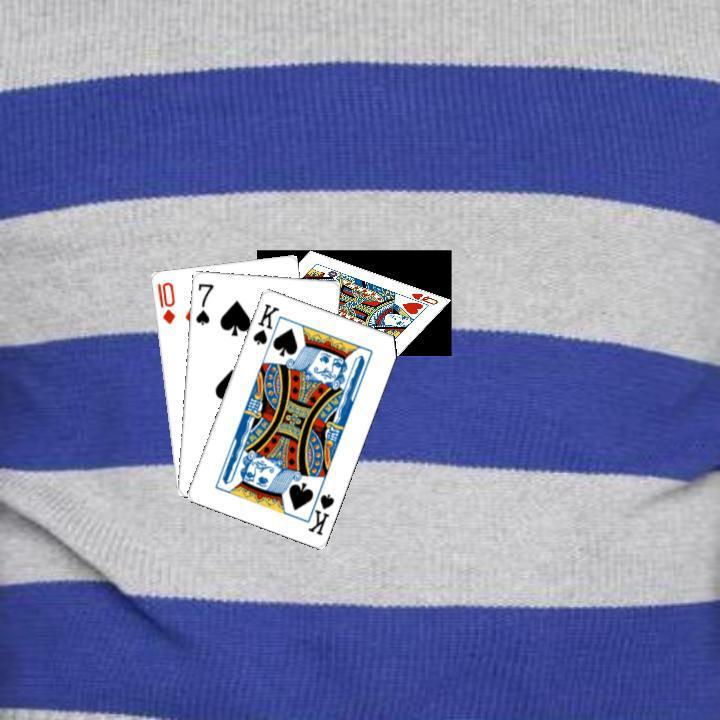10: (152, 277, 177, 326)
7: (191, 279, 215, 327)
K: (301, 482, 336, 537), (248, 299, 281, 347)
